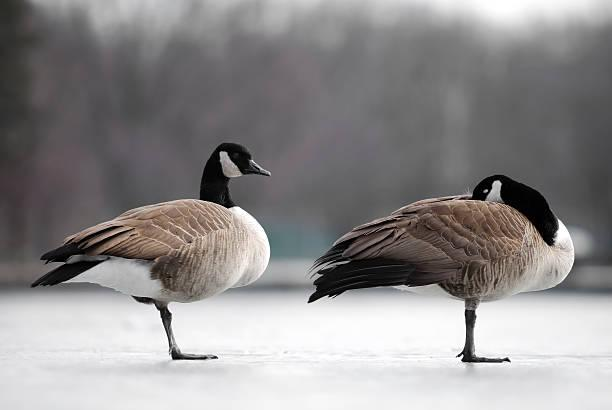Canadian-Goose: (34, 140, 276, 372), (304, 171, 583, 370)
